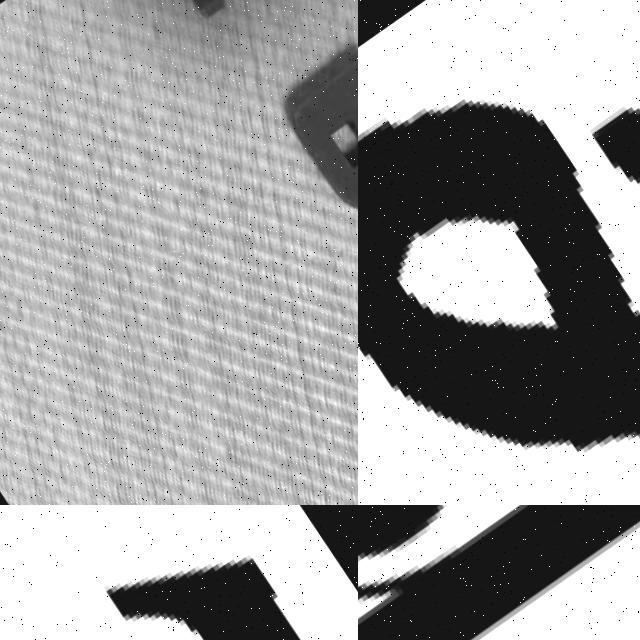2: (0, 505, 358, 640)
A: (279, 62, 358, 231)
E: (358, 100, 640, 460)
R: (358, 505, 640, 640)
T: (133, 0, 292, 28)
